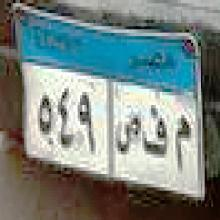4: (56, 82, 74, 152)
5: (38, 92, 54, 133)
9: (78, 92, 98, 154)
faa: (142, 104, 168, 158)
meem: (171, 114, 192, 168)
saad: (115, 112, 141, 152)
